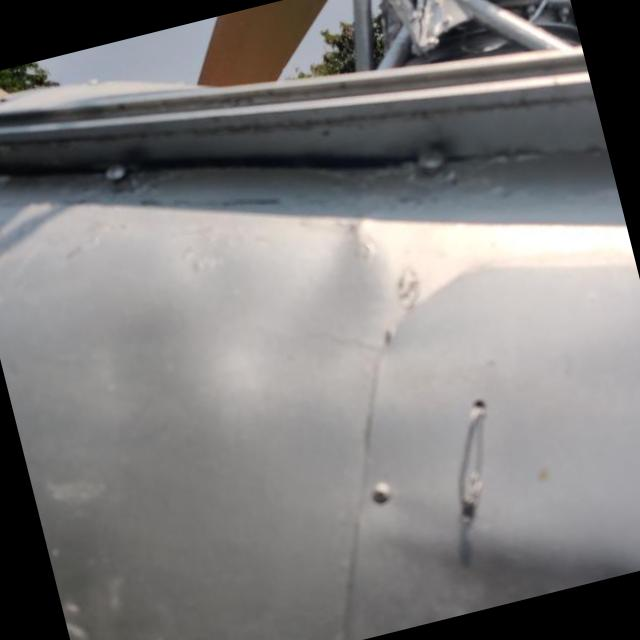Dent: (180, 212, 410, 411)
